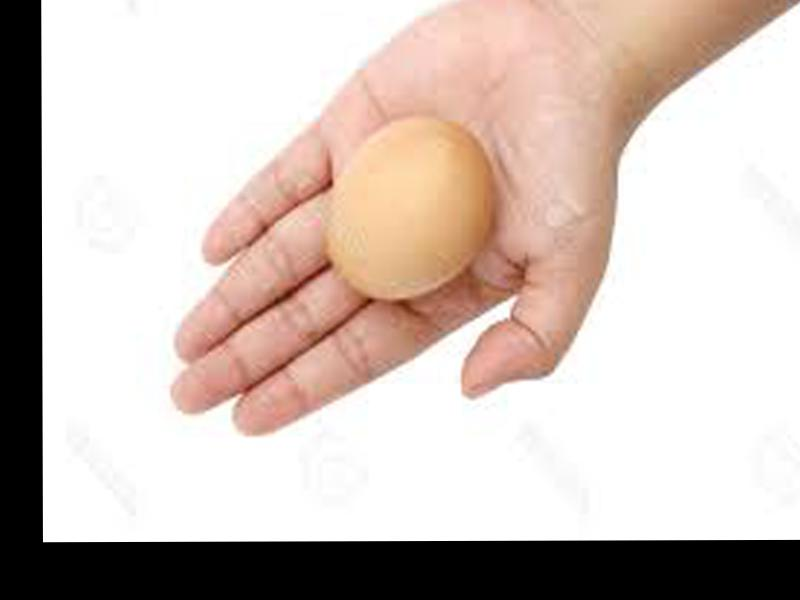Eggs: (330, 117, 496, 298)
